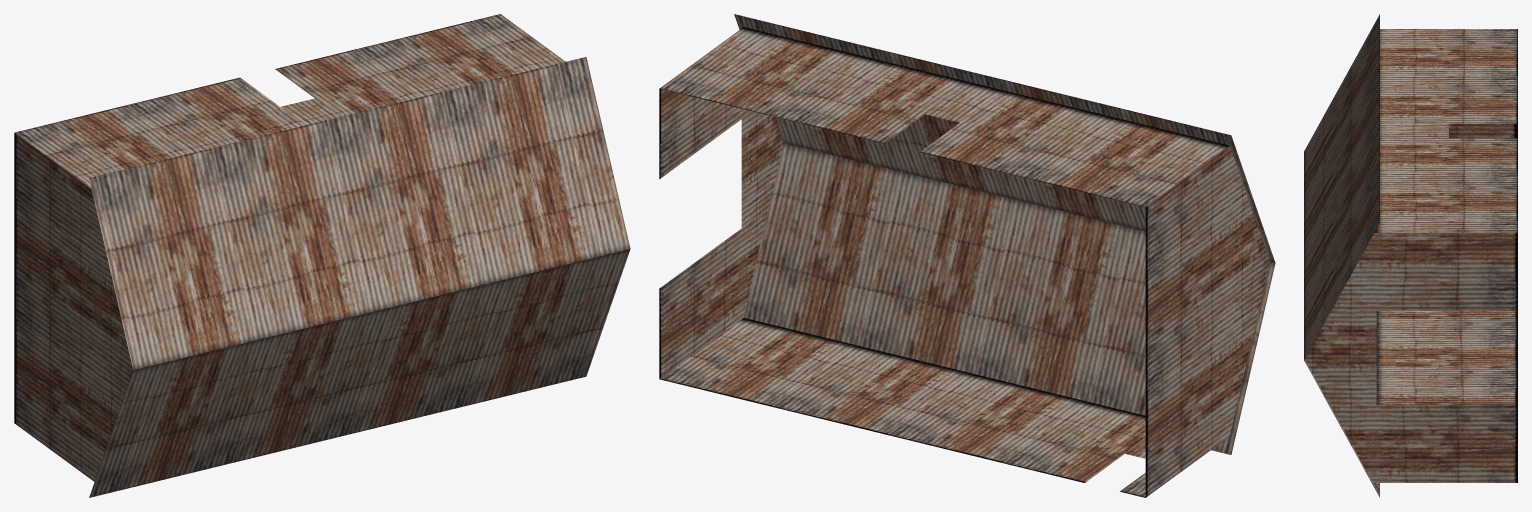
Rendered from shedA.glb.
The picture shows the model from 3 angles, left to right: view 1: azimuth 30°, elevation 25°; view 2: azimuth 150°, elevation 25°; view 3: azimuth 270°, elevation 25°; orthographic projection. The views are drawn at different scales.
Parts seen in each view (by area): view 1: Shed A; view 2: Shed A; view 3: Shed A.
Boxes of the visible parts, box(x1,y1,x2,y2) form: Shed A: box(14, 14, 630, 497); Shed A: box(659, 14, 1275, 497); Shed A: box(1304, 14, 1517, 497).
Size of the model in its own units: 28.64 by 17.6 by 12.4.
1 material, 1 textured.
